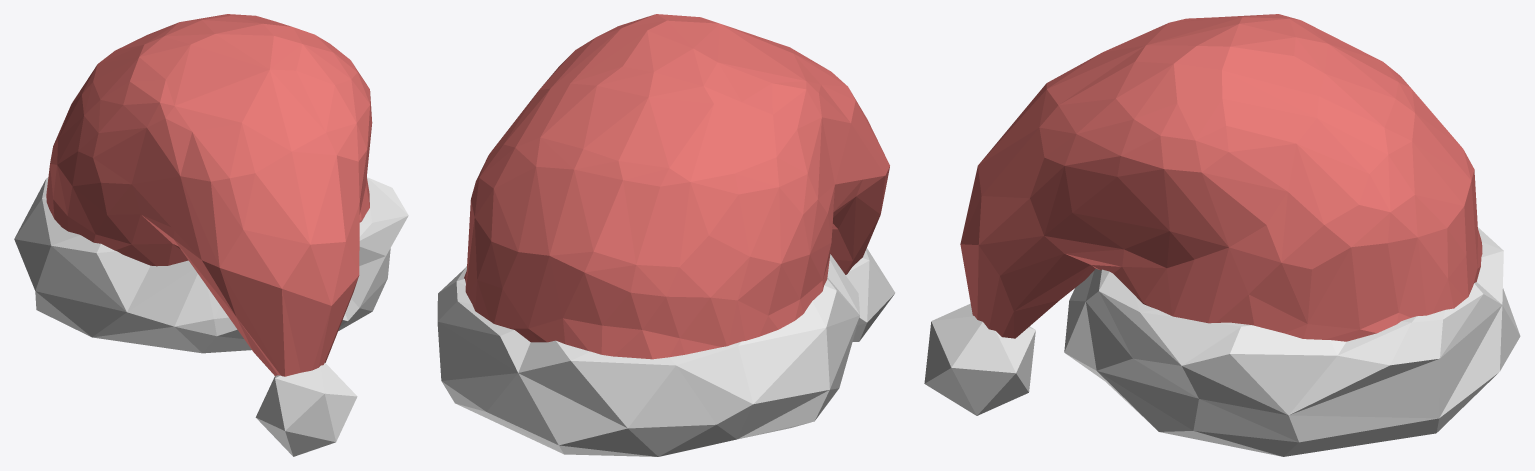
File: SantaHat.glb
3 views of the same model, side by side, from view 1: azimuth 30°, elevation 25°; view 2: azimuth 150°, elevation 25°; view 3: azimuth 270°, elevation 25° (orthographic). The views are drawn at different scales.
Parts seen in each view (by area): view 1: SantaHat_Cube.002; view 2: SantaHat_Cube.002; view 3: SantaHat_Cube.002.
Boxes of the visible parts, left/top/right/bottom form: SantaHat_Cube.002: left=14, top=14, right=408, bottom=456; SantaHat_Cube.002: left=437, top=14, right=895, bottom=456; SantaHat_Cube.002: left=924, top=14, right=1520, bottom=456.
Size of the model in its own units: 0.7965 by 0.7814 by 1.06.
